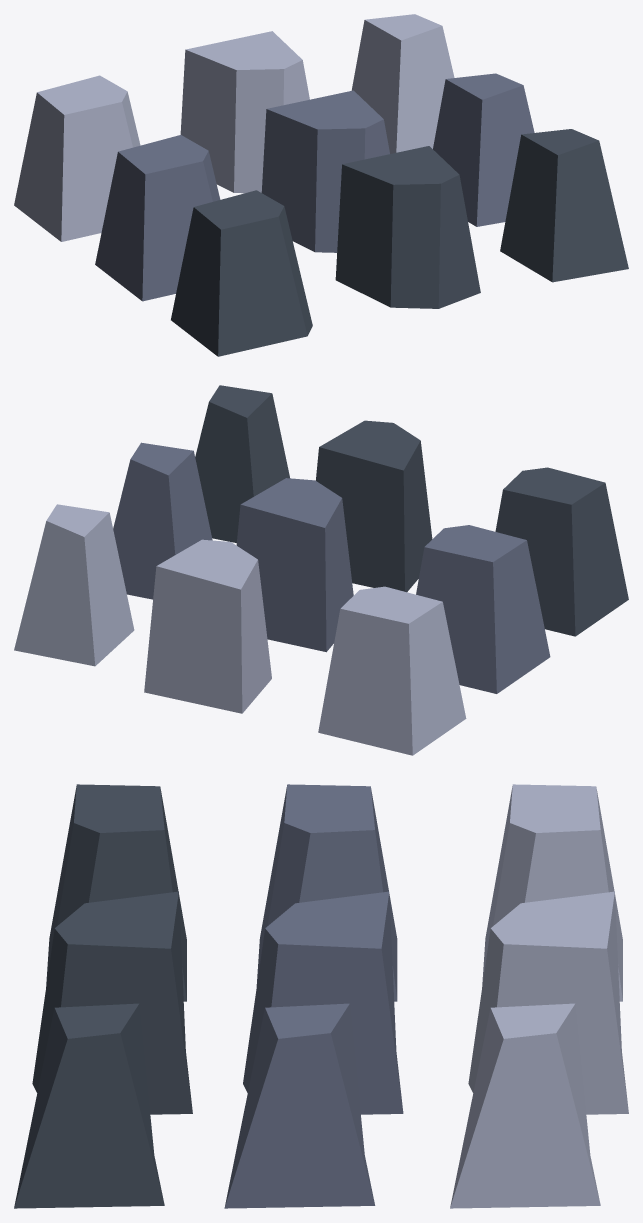
File: floorstones.fbx
3 renders of one model, top to bottom at view 1: azimuth 30°, elevation 25°; view 2: azimuth 150°, elevation 25°; view 3: azimuth 270°, elevation 25°, orthographic. The views are drawn at different scales.
Visible parts, largest first — view 1: stone1, stone0, stone2, stone6, stone3, stone7, stone4, stone5, stone8; view 2: stone6, stone7, stone3, stone4, stone0, stone1, stone8, stone5, stone2; view 3: stone5, stone2, stone8, stone4, stone7, stone1, stone3, stone0, stone6.
Boxes of the visible parts, <box> form: stone1: <box>335,146,480,308</box>; stone0: <box>171,190,312,356</box>; stone2: <box>500,129,628,282</box>; stone6: <box>14,75,140,241</box>; stone3: <box>95,135,220,301</box>; stone7: <box>180,31,309,193</box>; stone4: <box>261,90,389,252</box>; stone5: <box>433,73,534,226</box>; stone8: <box>351,14,454,153</box>; stone6: <box>318,586,466,755</box>; stone7: <box>144,539,271,713</box>; stone3: <box>416,525,550,693</box>; stone4: <box>236,478,353,652</box>; stone0: <box>495,467,628,636</box>; stone1: <box>316,420,432,592</box>; stone8: <box>14,504,134,666</box>; stone5: <box>113,442,212,599</box>; stone2: <box>195,385,289,542</box>; stone5: <box>224,1003,375,1208</box>; stone2: <box>14,1003,164,1208</box>; stone8: <box>450,1003,600,1208</box>; stone4: <box>243,891,403,1114</box>; stone7: <box>468,891,628,1114</box>; stone1: <box>32,891,192,1114</box>; stone3: <box>256,784,397,1001</box>; stone0: <box>46,784,186,1001</box>; stone6: <box>482,784,622,1001</box>.
Size of the model in its own units: 1.98 by 0.5562 by 1.91.
